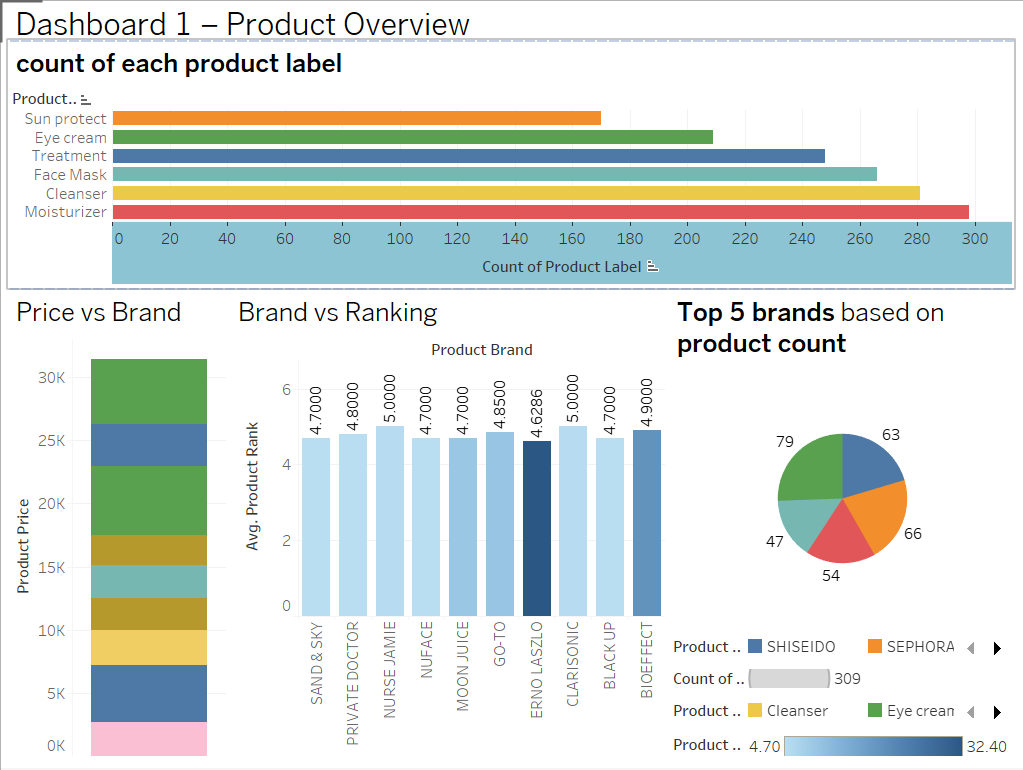

This screenshot's page, from the dashboard's own definition file:
{"tool":"tableau","page":{"name":"Dashboard 1","canvas":[1024,768],"ordinal":0},"visuals":[{"type":"title","box":[8,8,1008,32]},{"type":"worksheet","title":"Sheet 2","mark":"Automatic","rows":["Label"],"cols":["Label"],"box":[8,40,1008,248]},{"type":"worksheet","title":"Sheet 3","mark":"Automatic","rows":["Price"],"box":[8,288,187,472]},{"type":"worksheet","title":"Sheet 8","mark":"Automatic","rows":["Rank"],"cols":["Brand"],"box":[195,288,576,472]},{"type":"worksheet","title":"Sheet 1","mark":"Pie","box":[771,288,245,344]},{"type":"legend","title":"Sheet 1","param":"[federated.1i7hch20eintt41e8ig2z1wvdcq7].[none:Brand:nk]","box":[771,632,245,32]},{"type":"legend","title":"Sheet 1","param":"[federated.1i7hch20eintt41e8ig2z1wvdcq7].[cnt:Brand:qk]","box":[771,664,245,32]},{"type":"legend","title":"Sheet 2","param":"[federated.1i7hch20eintt41e8ig2z1wvdcq7].[none:Label:nk]","box":[771,696,245,32]},{"type":"legend","title":"Sheet 8","param":"[federated.1i7hch20eintt41e8ig2z1wvdcq7].[sum:Rank:qk]","box":[771,728,245,32]}]}

Visuals, with their boxes in screenshot pixels (x1, y1, x2, y2), scaled from the page's 1024x768 canvas onto the 1023x770 screenshot:
title: (8, 8, 1015, 40)
"Sheet 2" worksheet: (8, 40, 1015, 289)
"Sheet 3" worksheet: (8, 289, 195, 762)
"Sheet 8" worksheet: (195, 289, 770, 762)
"Sheet 1" worksheet (Pie marks): (770, 289, 1015, 634)
"Sheet 1" legend: (770, 634, 1015, 666)
"Sheet 1" legend: (770, 666, 1015, 698)
"Sheet 2" legend: (770, 698, 1015, 730)
"Sheet 8" legend: (770, 730, 1015, 762)
